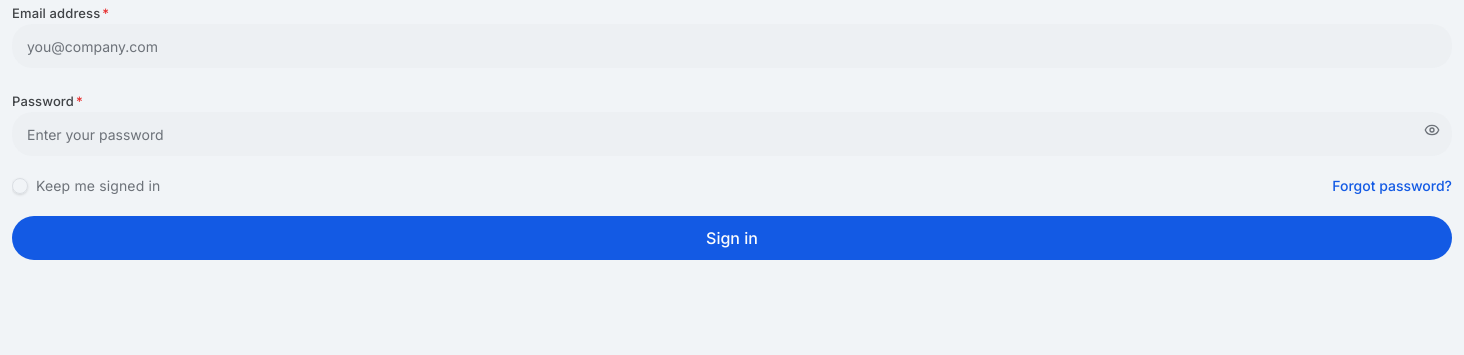
Test case: LoginForm › surfaces a rejected sign-in as an alert
Step 1. Type "admin@example.com" into the field labelled "Email address*" → (732, 46), box [12,24,1452,68]
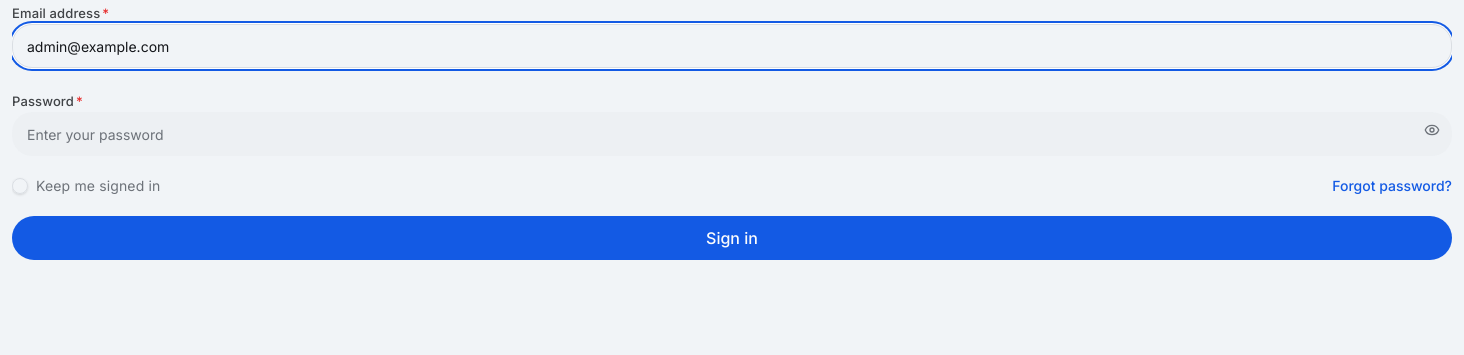
Step 2. Type "Wrong@Password1" into the password field labelled "Password*" → (732, 134), box [12,112,1452,156]
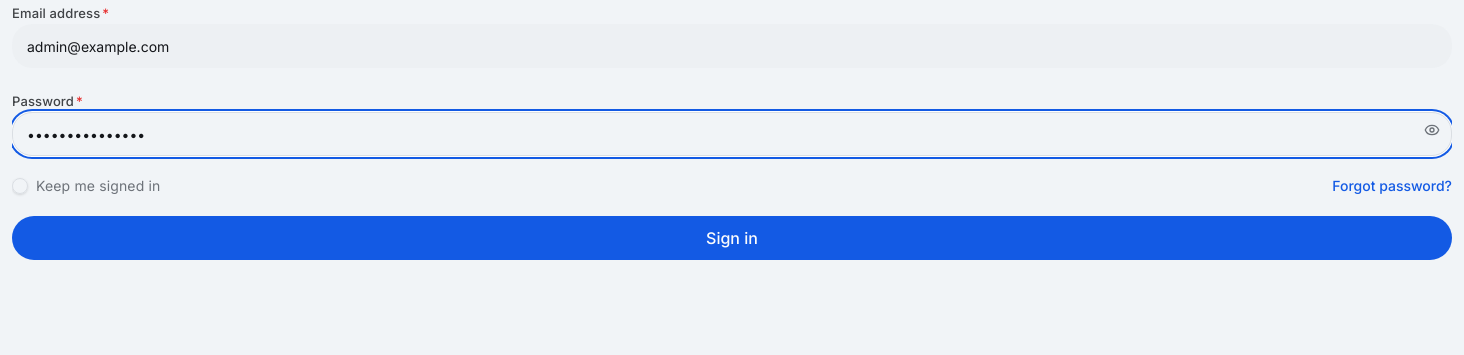
Step 3. Click the button "Sign in" → (732, 238), box [12,216,1452,260]
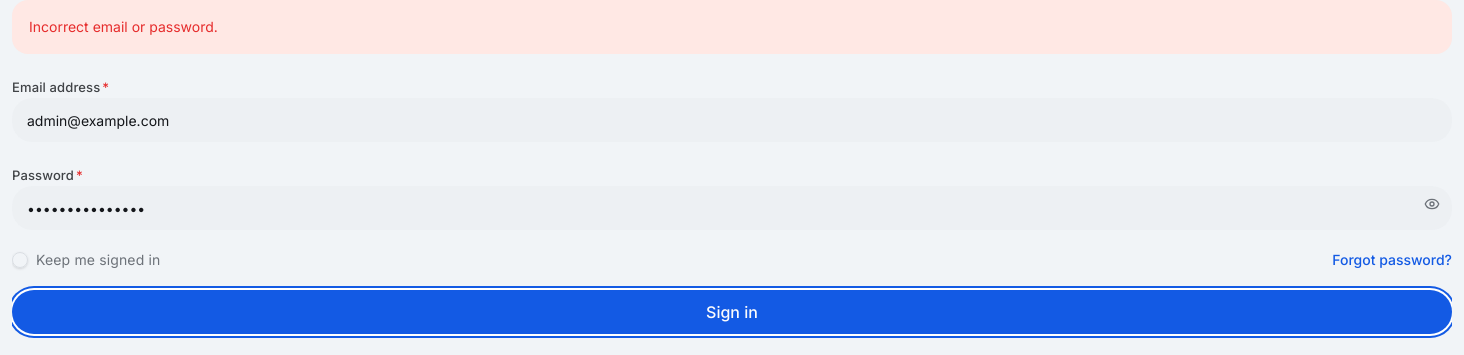
Check: the message reads "Incorrect email or password.", box [29,18,218,35]
